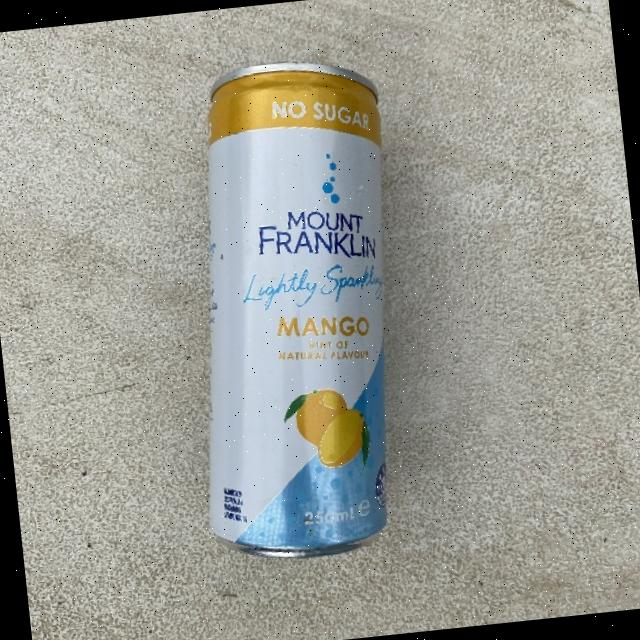metal: (160, 50, 426, 566)
